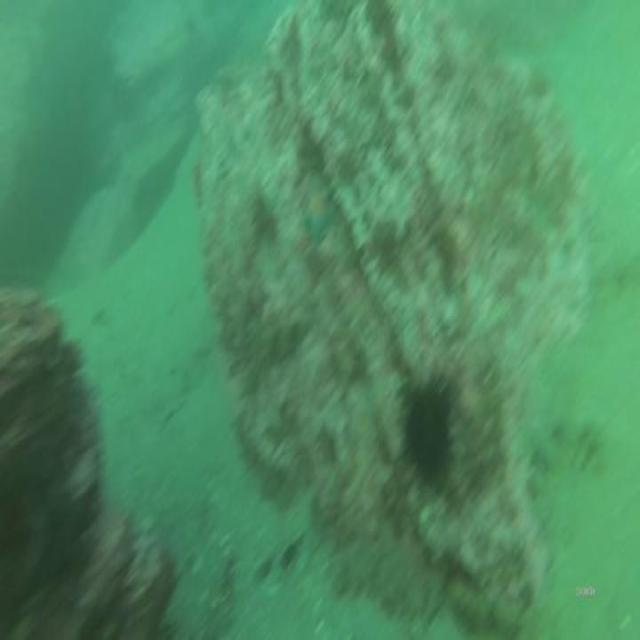echinus: (402, 378, 458, 490)
starfish: (300, 179, 344, 248)
